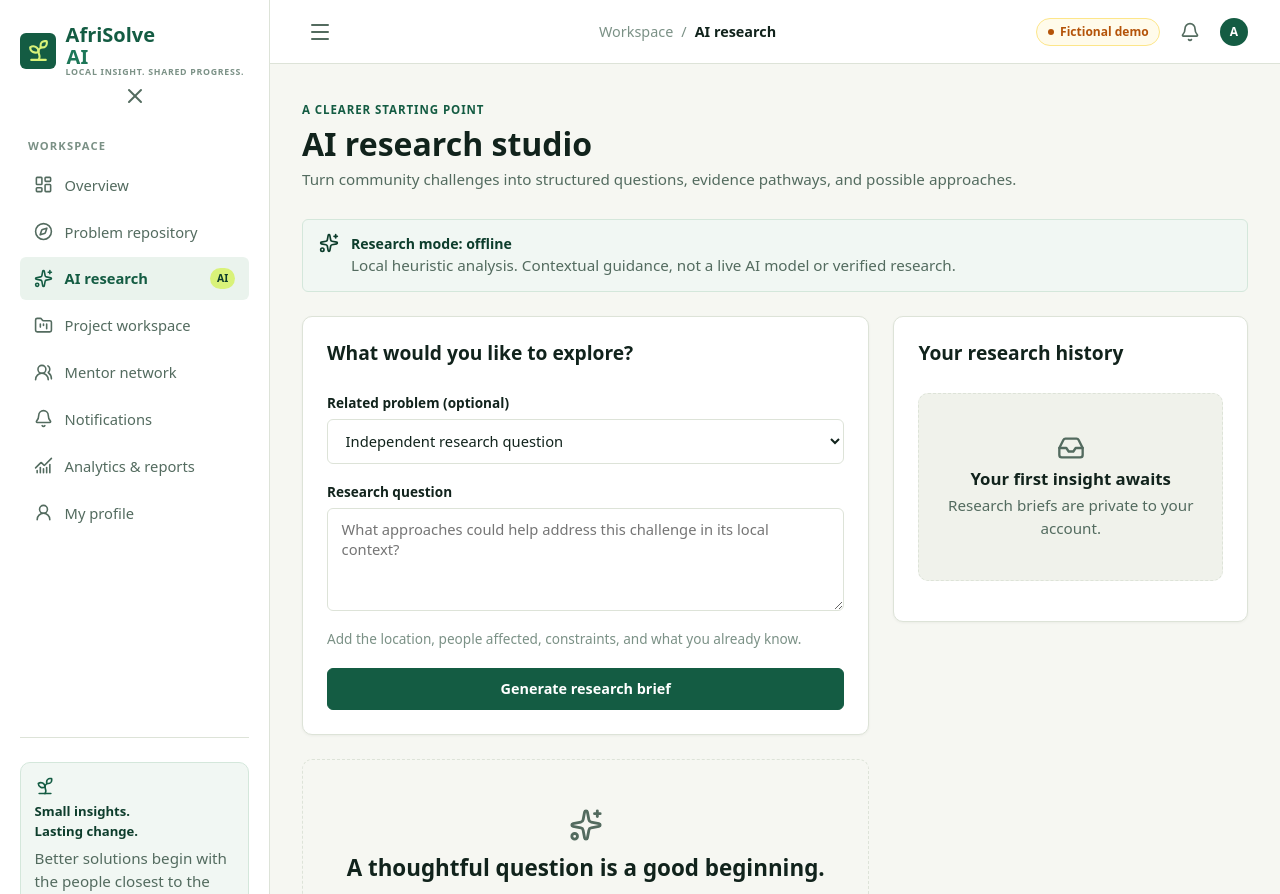
Test: research runs contextual analysis and labels offline output honestly
Replace the text in the text box labelled "Research question" with "How can rural schools improve drinking water access?". click: (586,559)
box: [327, 508, 844, 611]
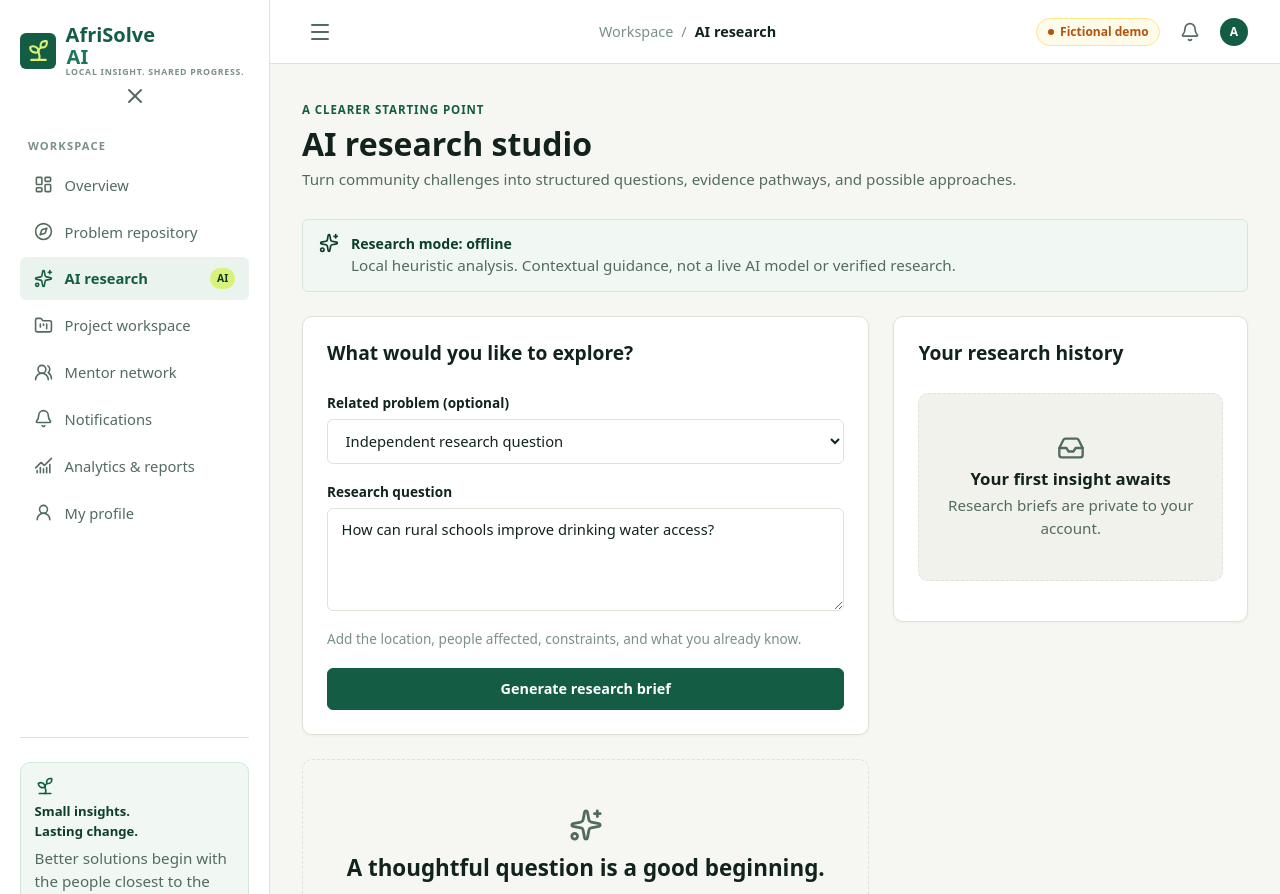
Click the button "Generate research brief". click: (586,689)
box: [327, 668, 844, 710]
(page scrolled)
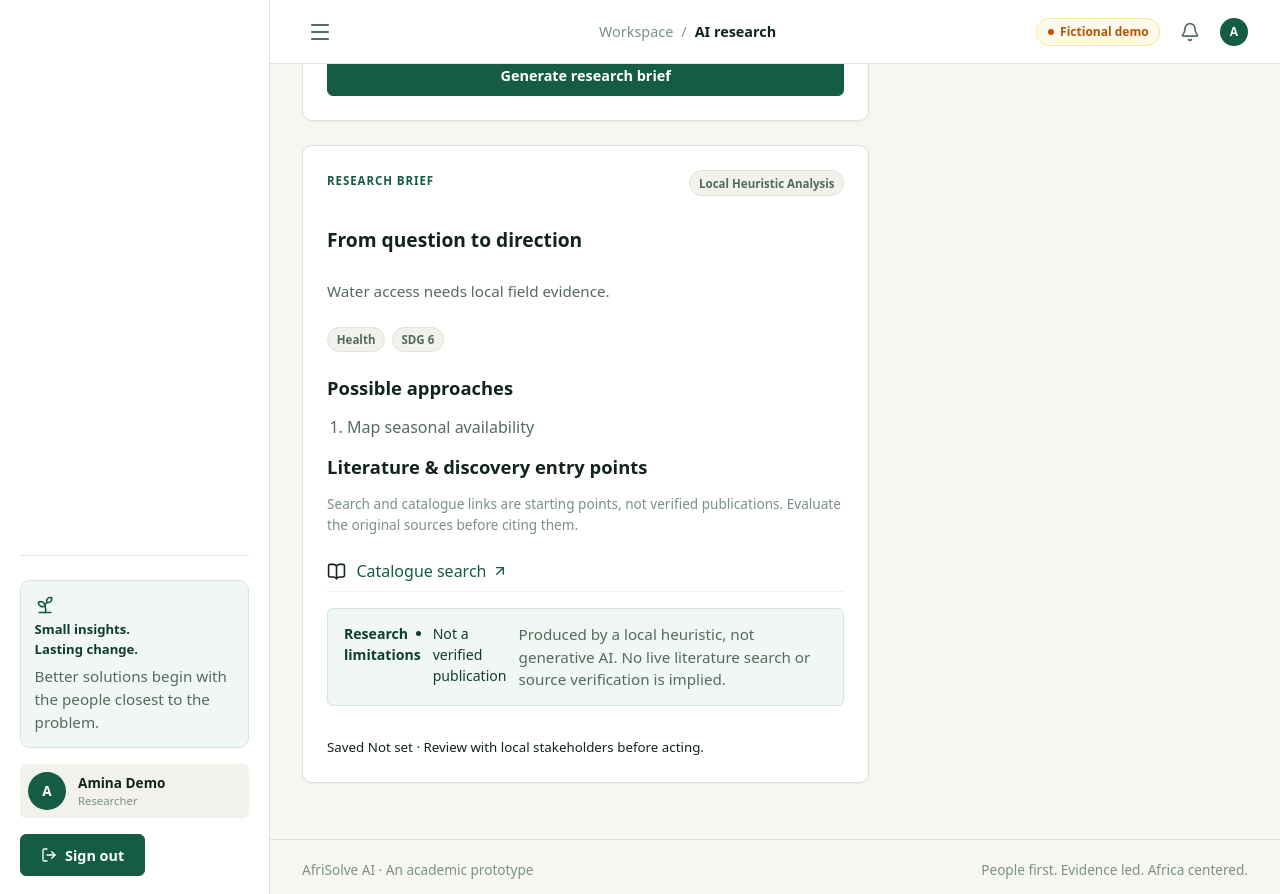
Expected: the text "Water access needs local field evidence." is shown, [327, 281, 610, 301]
